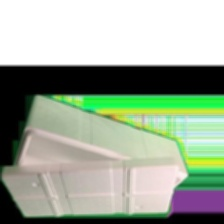foam_box: (0, 91, 191, 224)
